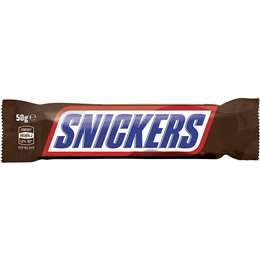snickers: (52, 112, 205, 147)
